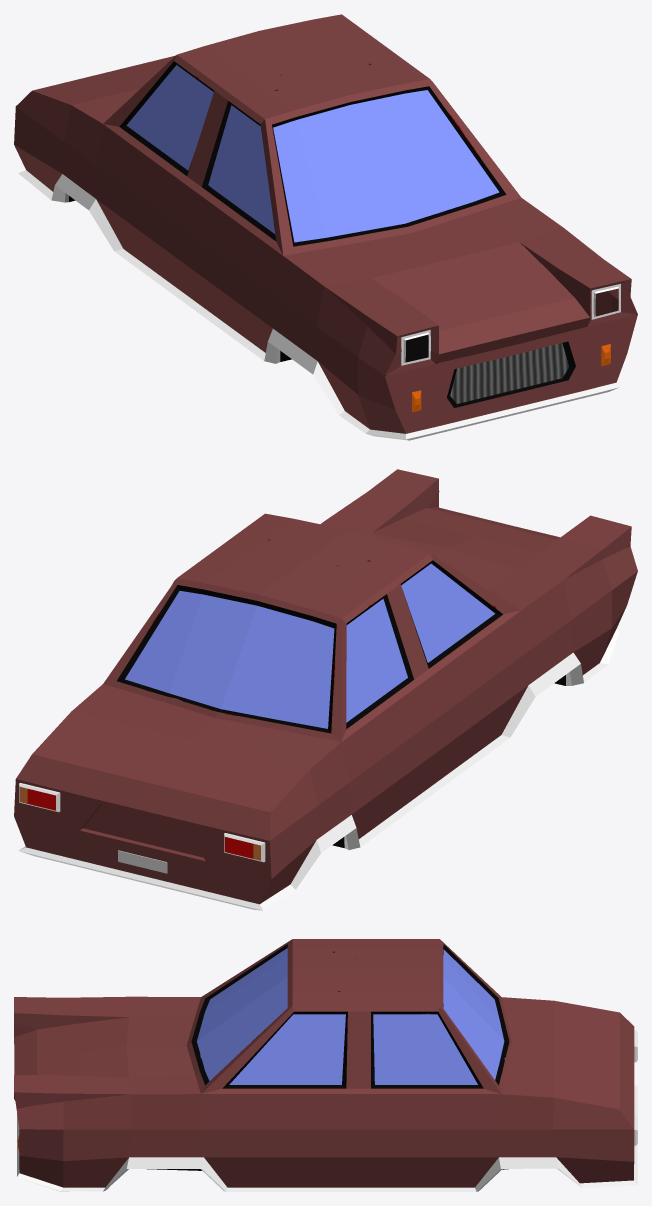
File: Auto.fbx
3 views of the same model, one above another, from view 1: azimuth 30°, elevation 25°; view 2: azimuth 150°, elevation 25°; view 3: azimuth 270°, elevation 25° (orthographic). The views are drawn at different scales.
Parts seen in each view (by area): view 1: Car; view 2: Car; view 3: Car.
Boxes of the visible parts, <box> form: Car: <box>14,14,637,440</box>; Car: <box>14,469,637,910</box>; Car: <box>14,939,637,1191</box>.
Size of the model in its own units: 233 by 176 by 564.
Materials: 1 (1 with a texture image).
